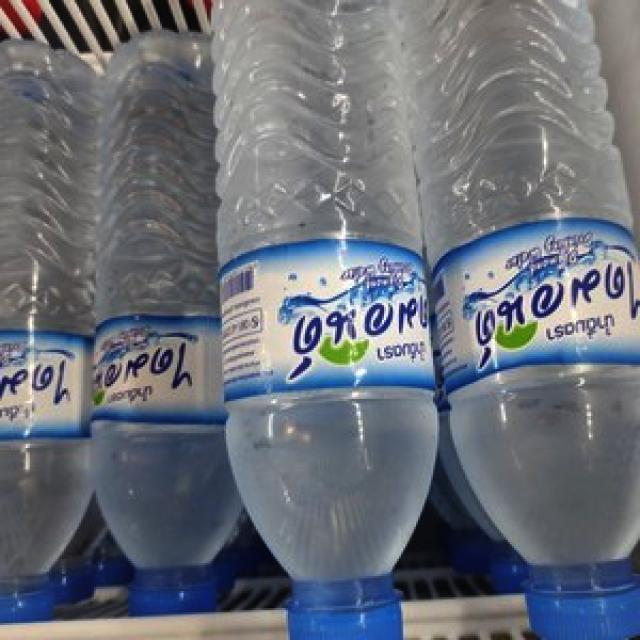cap: (527, 575, 640, 640), (286, 591, 408, 640), (127, 567, 226, 615)
label: (222, 239, 438, 392), (424, 227, 640, 366), (88, 316, 218, 423), (0, 332, 88, 438)
not-crumbled: (206, 0, 443, 640), (417, 0, 640, 640)
